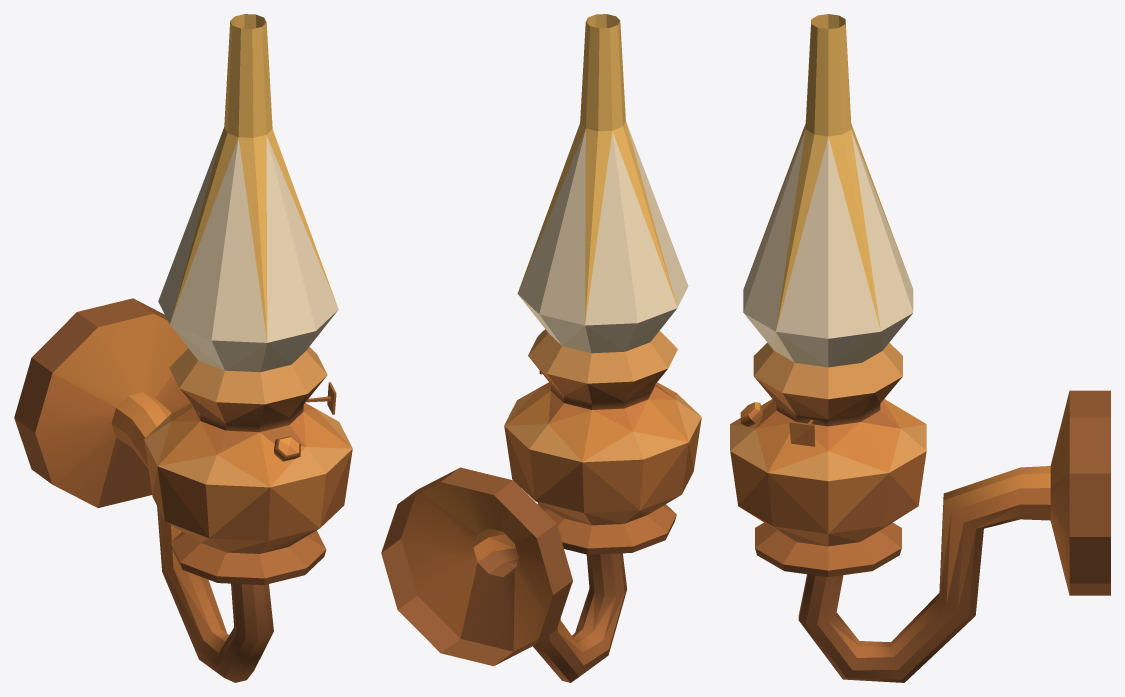
The model's file is lamp_wall_hallway.fbx.
3 views of the same model, side by side, from view 1: azimuth 30°, elevation 25°; view 2: azimuth 150°, elevation 25°; view 3: azimuth 270°, elevation 25° (orthographic). The views are drawn at different scales.
Visible parts, largest first — view 1: lamp_wall_base, lamp_wall_light; view 2: lamp_wall_base, lamp_wall_light; view 3: lamp_wall_base, lamp_wall_light.
Part boxes in pixels (box(x1,y1,x2,y2)): lamp_wall_base: box(14, 298, 352, 682); lamp_wall_light: box(158, 14, 338, 372); lamp_wall_base: box(381, 329, 701, 682); lamp_wall_light: box(517, 14, 688, 353); lamp_wall_base: box(730, 342, 1110, 682); lamp_wall_light: box(743, 14, 913, 367).
Bounding box in the file's own units: 15 × 52.8 × 27.63.
